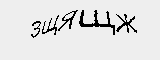Ж: (115, 12, 137, 34)
З: (30, 20, 43, 39)
Щ: (77, 10, 118, 36), (41, 14, 58, 34)
Я: (59, 7, 78, 33)
